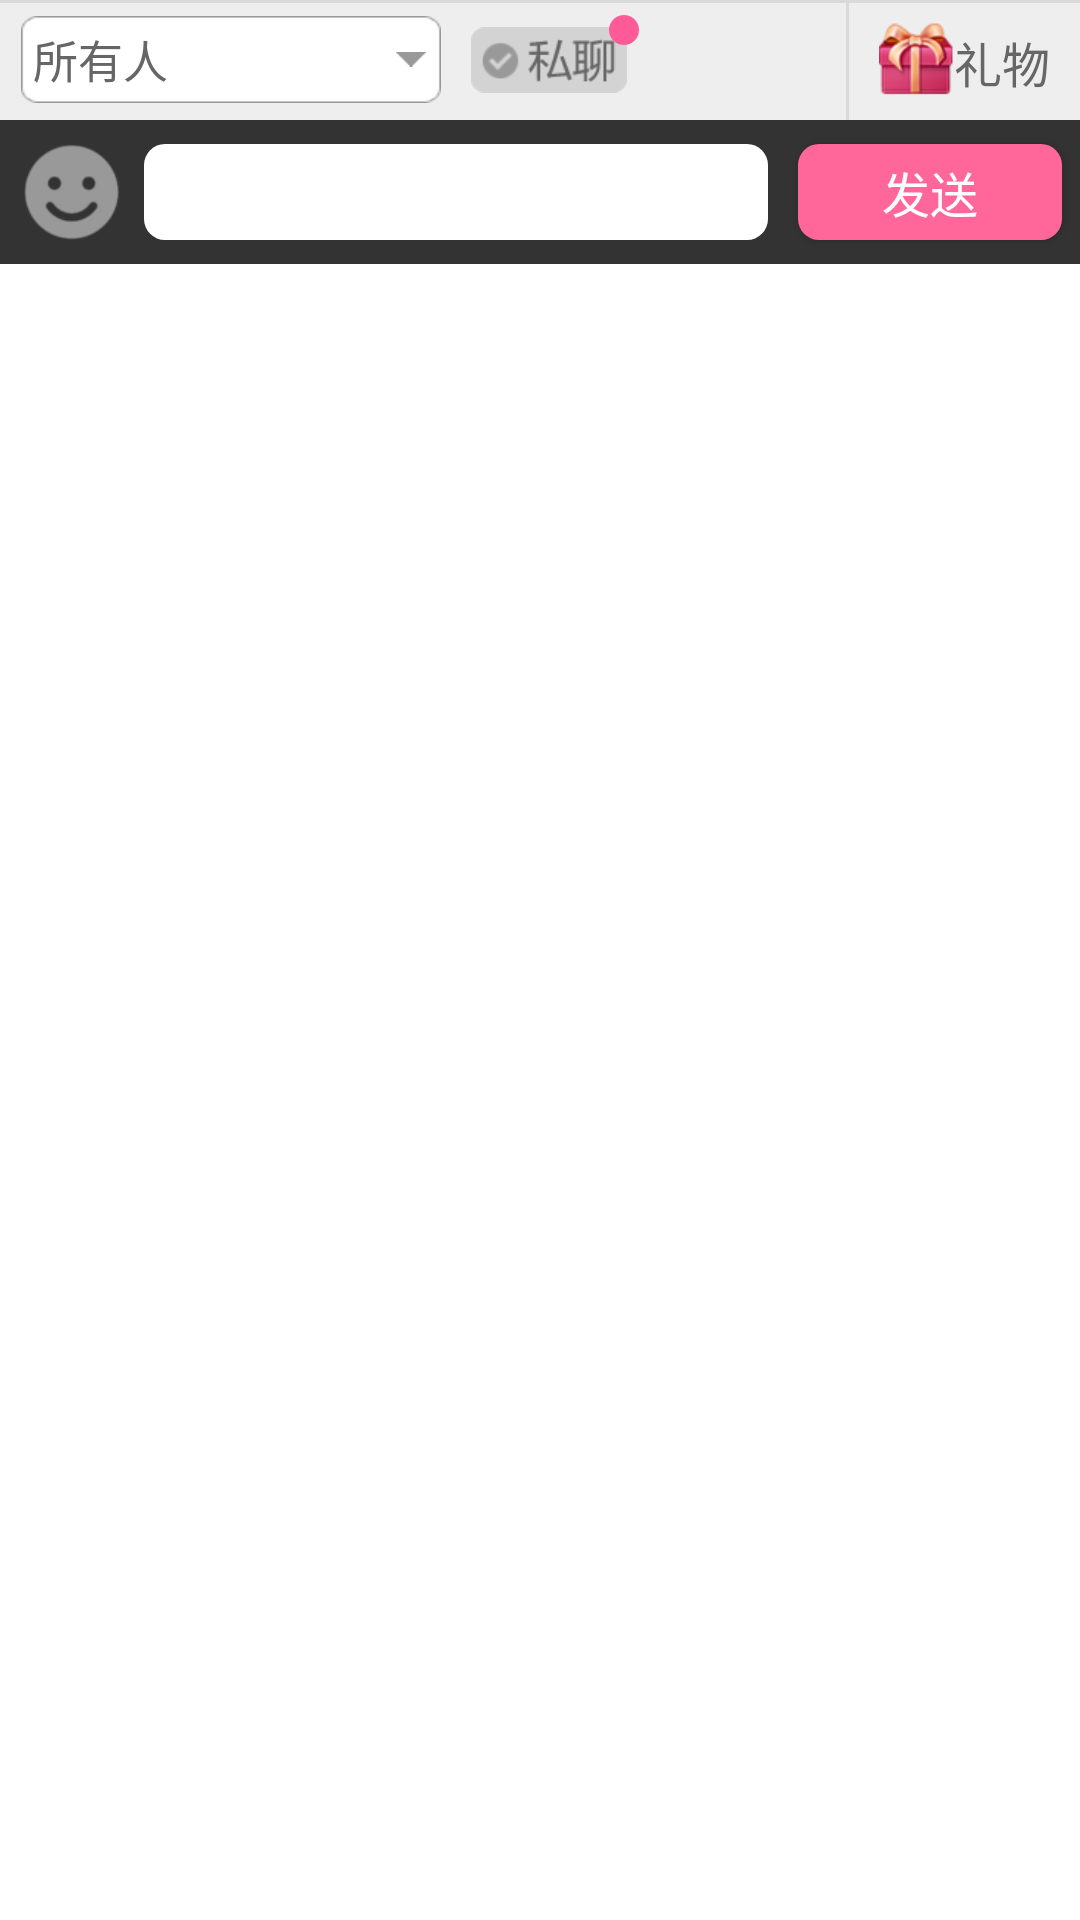

Screen size 1080px×1920px. Icon name, then its box in pixels as [x1, y1, x2, y2]:
chatbar arrow: [396, 52, 426, 67]
chatbar face: [25, 145, 119, 239]
dot: [609, 15, 639, 45]
